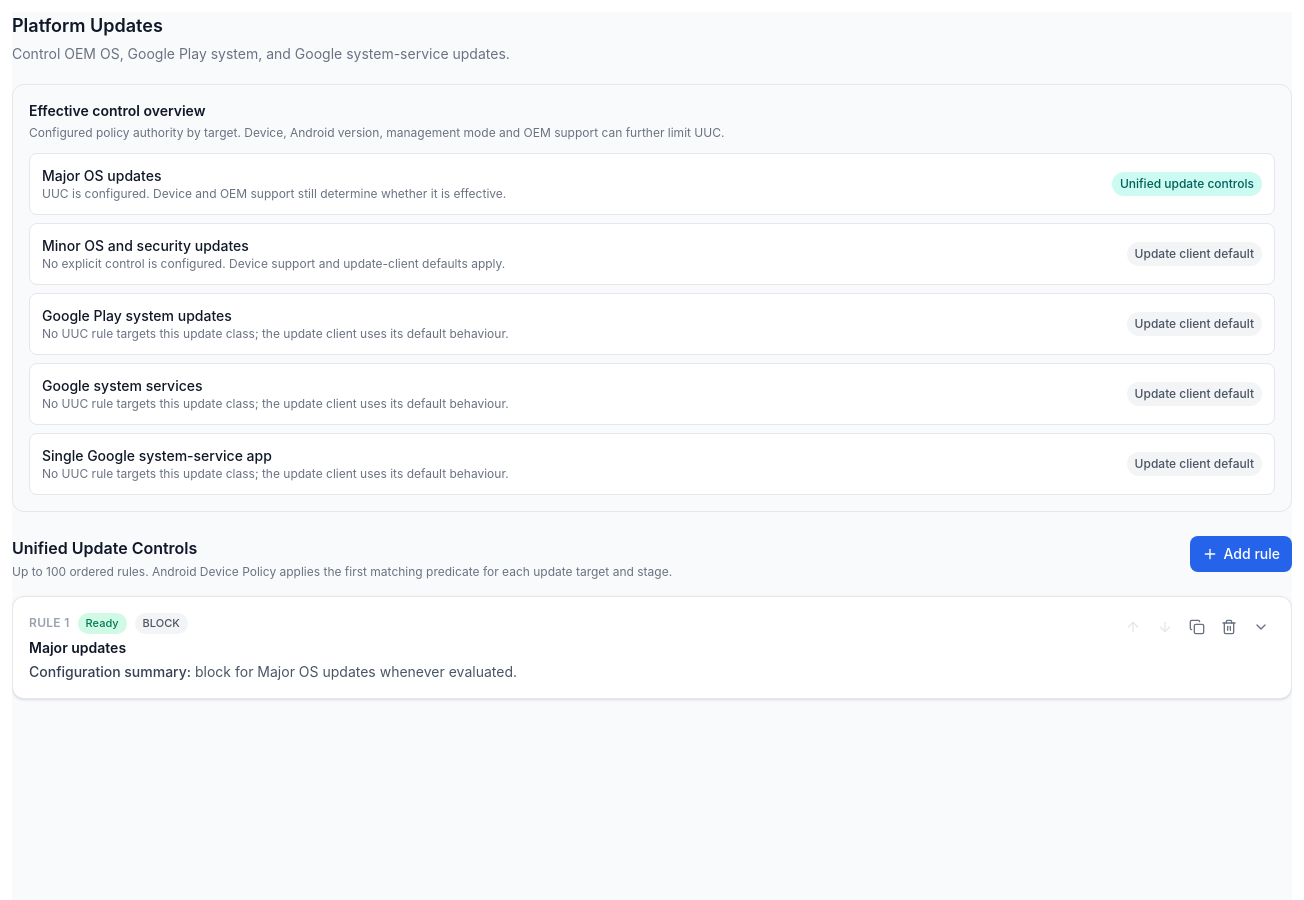
Test: PlatformUpdatesSection › opens a duplicated rule and preserves a stable unique ID
The width and height of the screenshot is (1304, 900).
What coordinates should you click on to do the following:
click the button named "Duplicate rule 1"
I would click on:
 (1197, 627)
Its box is 1183,613 -> 1211,641.
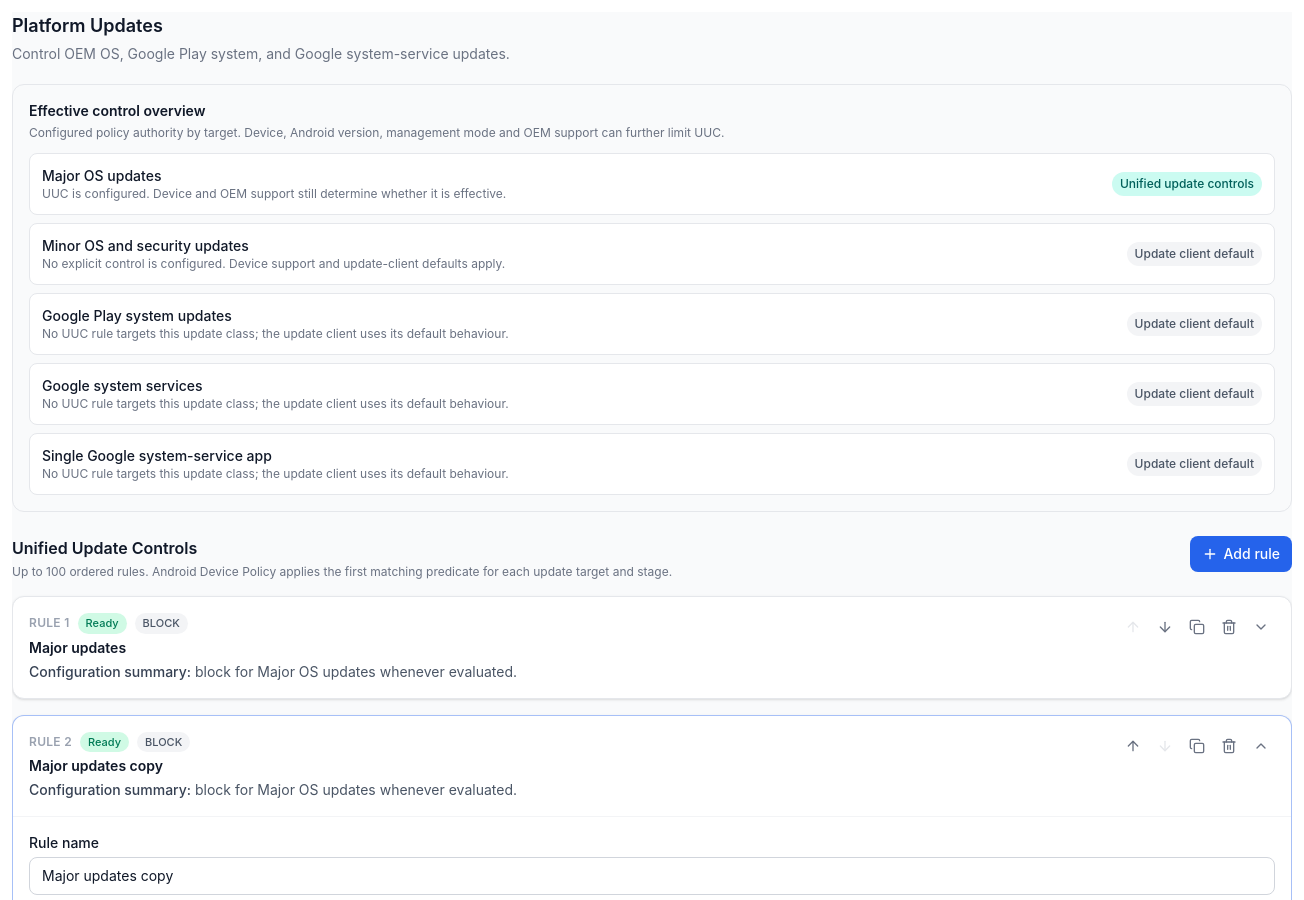
Expected: the field named "Rule 2 name" holds "Major updates copy", 29,857 -> 1275,895
